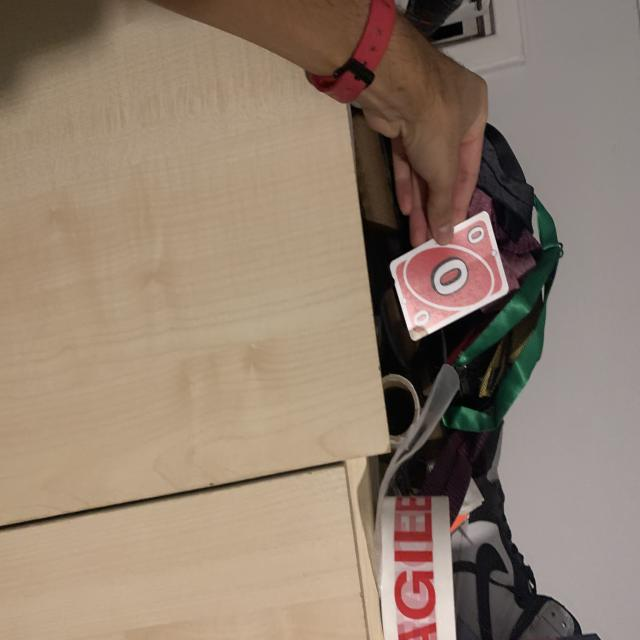lred-0: (465, 223, 488, 246)
